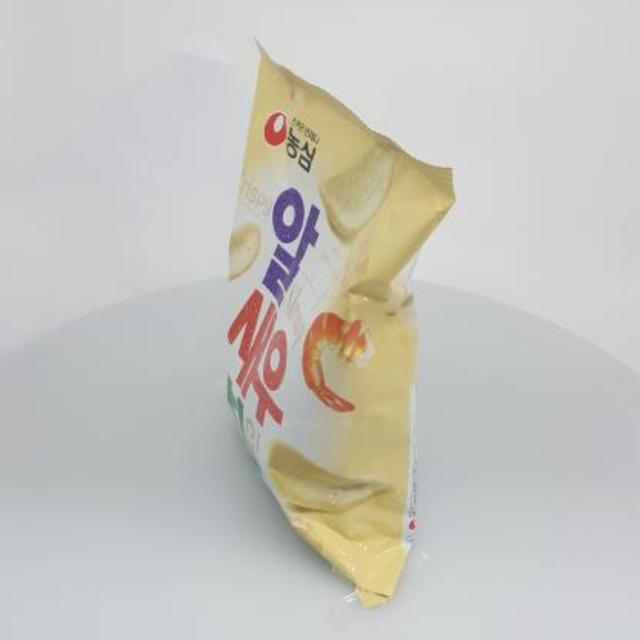snack_bag: (202, 28, 474, 618)
